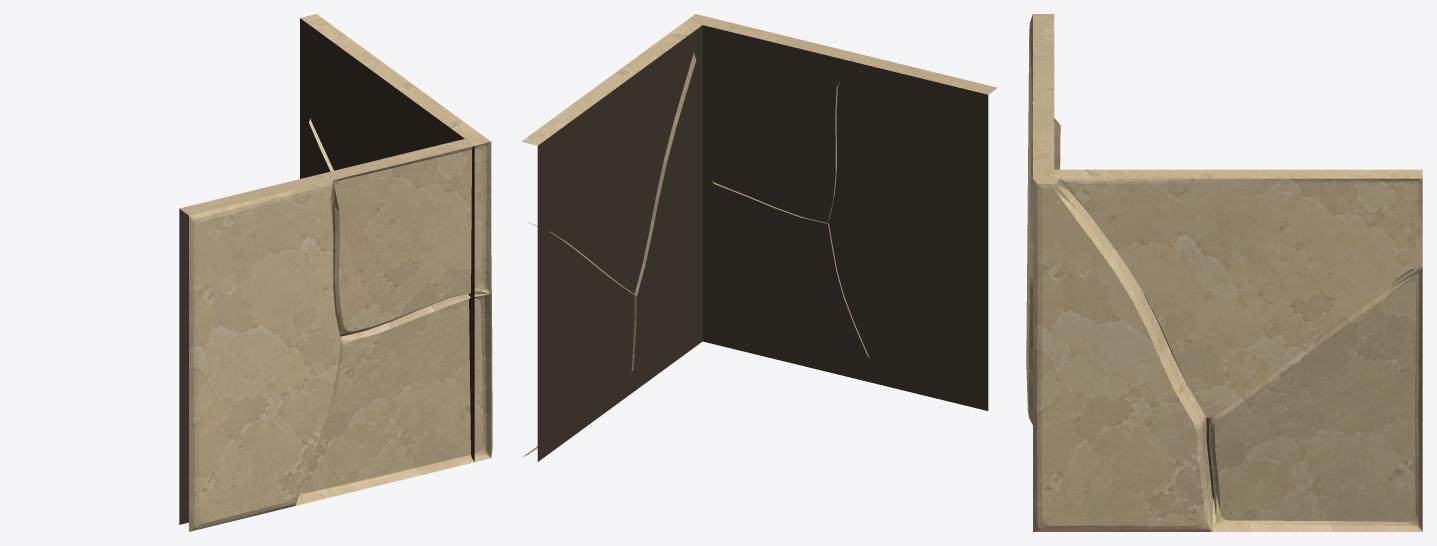
File: ground_square_corner_02.glb
The picture shows the model from 3 angles, left to right: view 1: azimuth 30°, elevation 25°; view 2: azimuth 150°, elevation 25°; view 3: azimuth 270°, elevation 25°; orthographic projection. The views are drawn at different scales.
Visible parts, largest first — view 1: GroundSquareCorner02_Body; view 2: GroundSquareCorner02_Body; view 3: GroundSquareCorner02_Body.
Boxes of the visible parts, x1,y1,x2,y2 form: GroundSquareCorner02_Body: (179, 14, 492, 531); GroundSquareCorner02_Body: (521, 14, 997, 461); GroundSquareCorner02_Body: (1026, 14, 1422, 531).
Bounding box in the file's own units: 1.02 × 1 × 1.02.
Materials: 8 (7 with a texture image).
